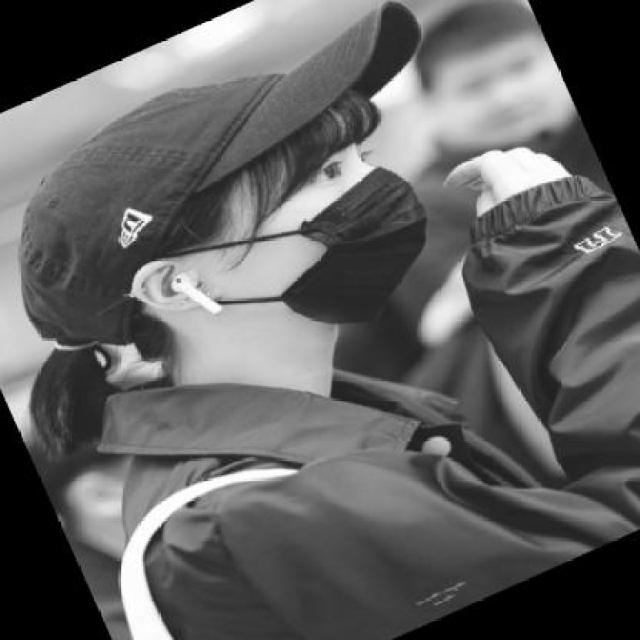earphone: (166, 267, 239, 328)
